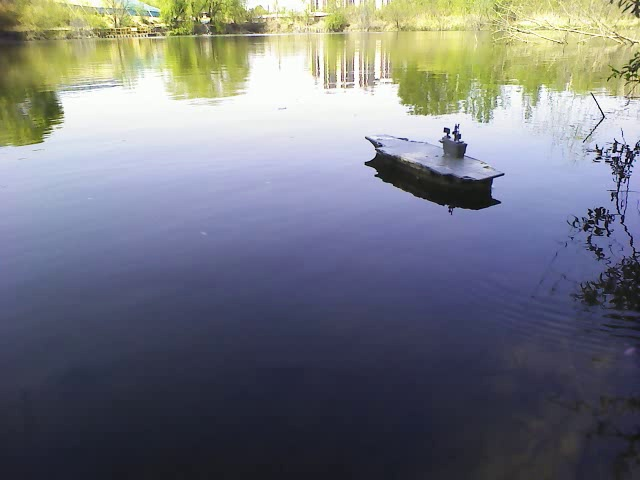aircraft_carrier: (363, 122, 505, 193)
